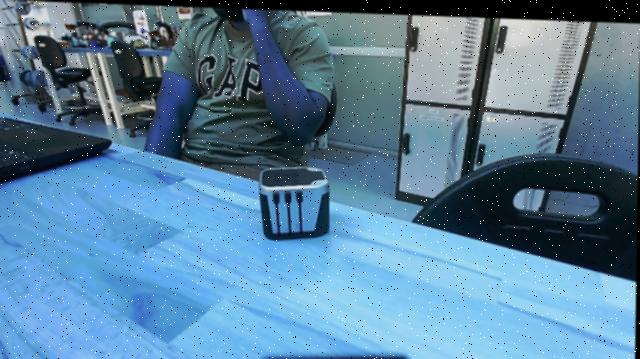adapter: (257, 161, 332, 240)
